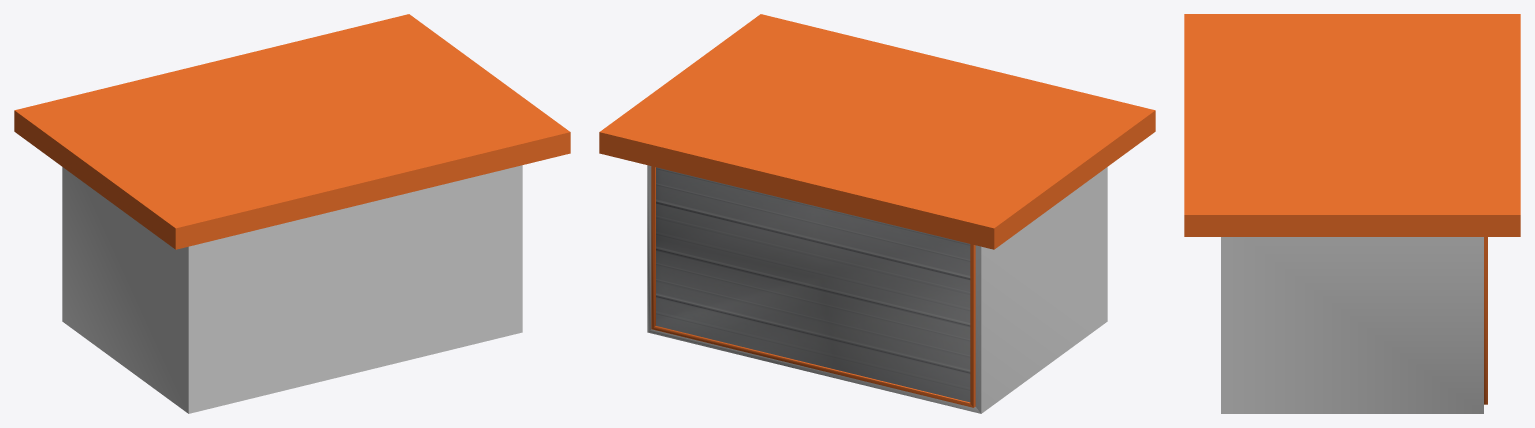
The model's file is Conveniencia.fbx.
3 views of the same model, side by side, from view 1: azimuth 30°, elevation 25°; view 2: azimuth 150°, elevation 25°; view 3: azimuth 270°, elevation 25° (orthographic). The views are drawn at different scales.
Visible parts, largest first — view 1: Conveniencia; view 2: Conveniencia; view 3: Conveniencia.
Part boxes in pixels (x1,y1,x2,y2): Conveniencia: [14, 14, 570, 413]; Conveniencia: [599, 14, 1155, 413]; Conveniencia: [1184, 14, 1520, 413].
Bounding box in the file's own units: 1924 × 959 × 1362.
